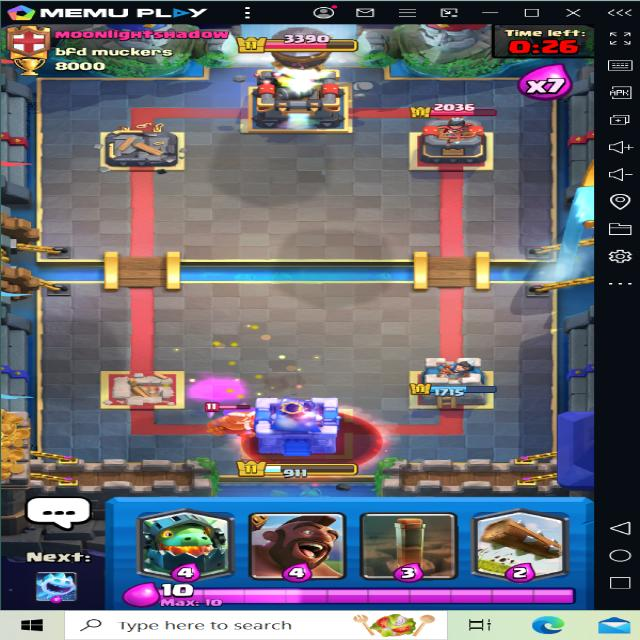Monk: (202, 400, 257, 440)
Rocket: (268, 26, 330, 75)
Void: (232, 403, 378, 471)
